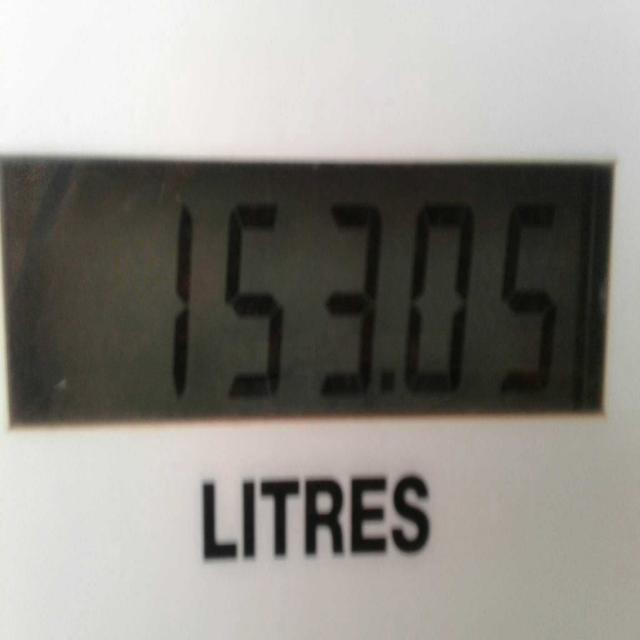.: (380, 369, 404, 406)
0: (399, 202, 478, 394)
1: (164, 200, 210, 406)
3: (314, 203, 386, 405)
5: (226, 199, 291, 406), (493, 208, 559, 392)
screen: (0, 152, 610, 420)
